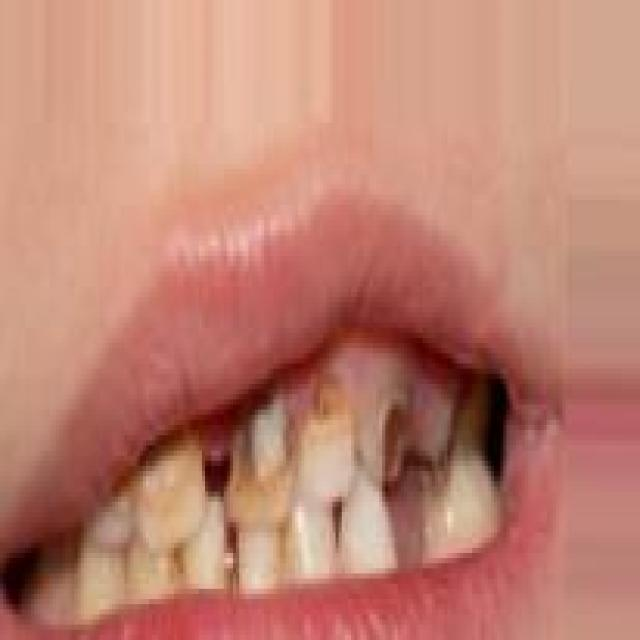caries: (221, 379, 299, 531), (359, 379, 420, 495), (300, 368, 354, 461)
